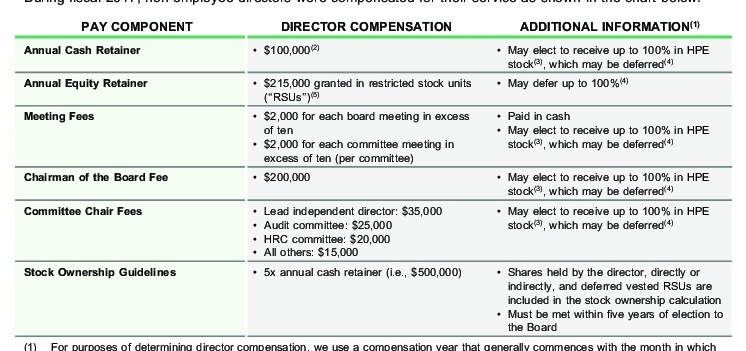table: (0, 0, 746, 351)
